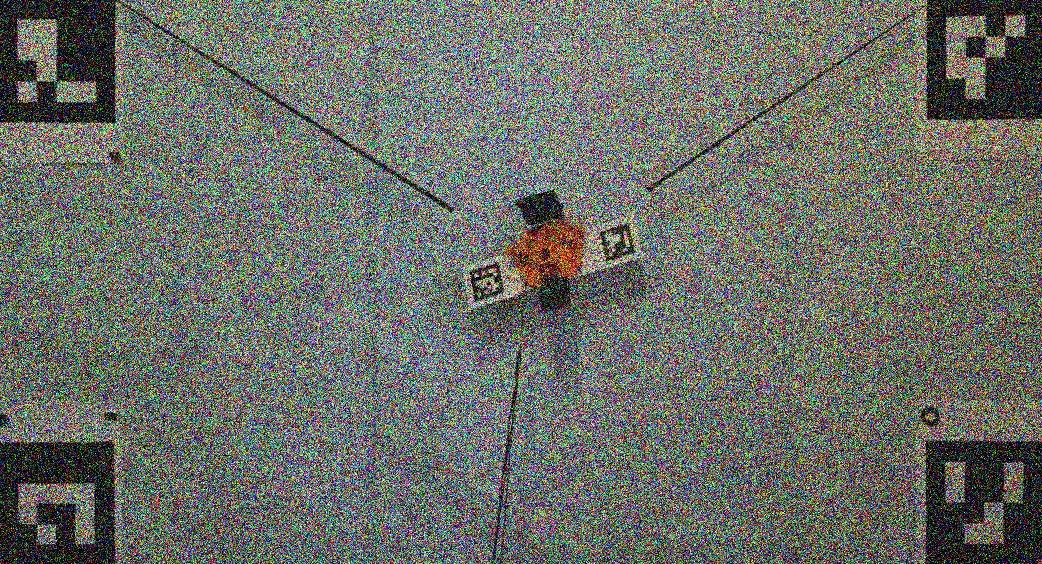robot: (505, 187, 589, 310)
